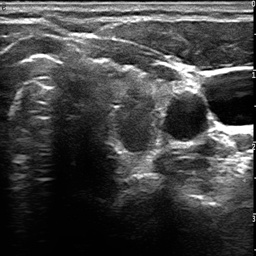mass: (115, 89, 154, 152)
